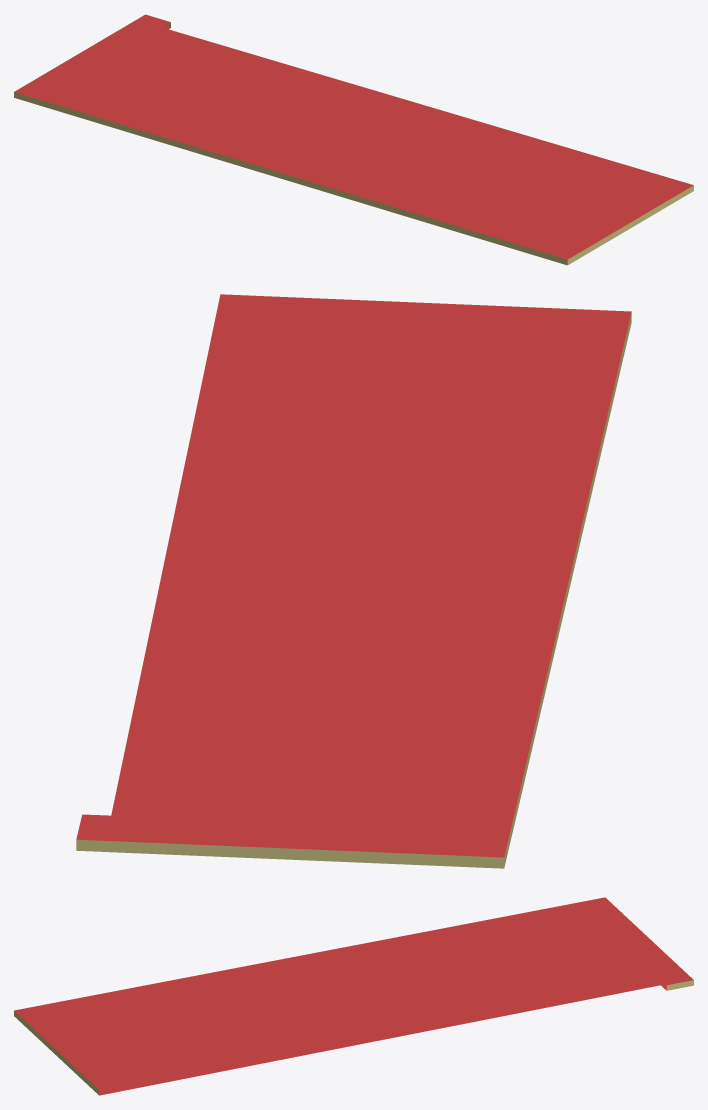
3 renders of one model, top to bottom at view 1: azimuth 30°, elevation 25°; view 2: azimuth 150°, elevation 25°; view 3: azimuth 270°, elevation 25°, orthographic. The views are drawn at different scales.
Bounding box in the file's own units: 7.42 × 11.06 × 0.1.
